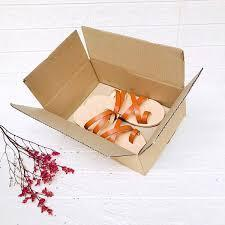box: (9, 25, 203, 178)
